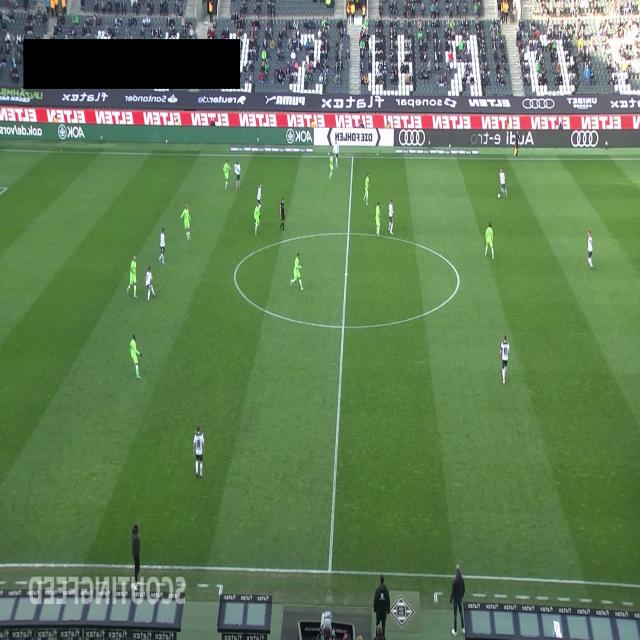ball: (497, 192, 501, 200)
player: (192, 425, 206, 479), (498, 333, 510, 384), (129, 333, 142, 379), (290, 252, 304, 291), (126, 254, 138, 298), (180, 202, 192, 242), (145, 266, 156, 302), (484, 222, 494, 259), (158, 228, 166, 264), (499, 167, 508, 198), (362, 172, 370, 206), (223, 159, 231, 190), (587, 229, 593, 269), (254, 202, 261, 236), (234, 158, 241, 190), (388, 198, 394, 235), (375, 201, 381, 236), (332, 142, 339, 168), (256, 182, 262, 208), (329, 153, 334, 180)
referee: (279, 197, 286, 232), (514, 133, 520, 158)
